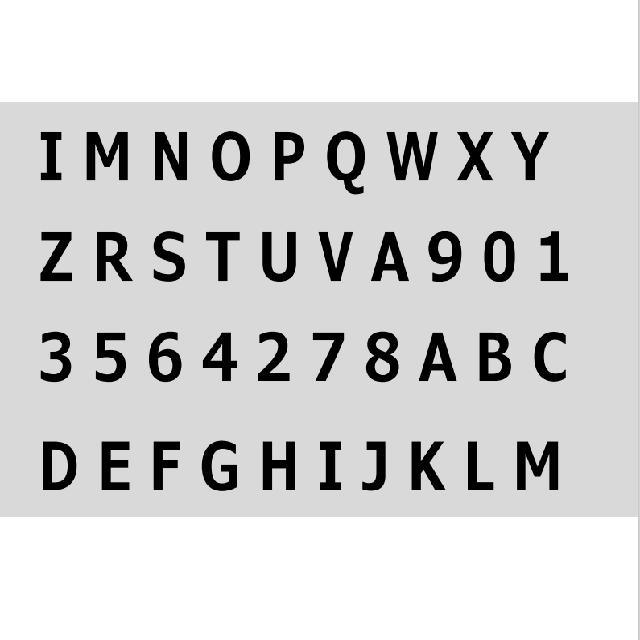0: (480, 225, 517, 286)
1: (536, 221, 573, 288)
2: (255, 323, 292, 389)
3: (38, 328, 76, 384)
4: (201, 328, 239, 384)
5: (92, 325, 128, 386)
6: (145, 328, 190, 386)
7: (312, 325, 348, 388)
8: (365, 328, 404, 384)
9: (423, 226, 462, 288)
A: (368, 220, 409, 287), (417, 329, 459, 386)
B: (476, 325, 514, 386)
C: (530, 325, 568, 387)
D: (38, 437, 80, 493)
E: (95, 436, 132, 496)
F: (147, 434, 183, 492)
G: (198, 436, 240, 496)
H: (259, 436, 300, 498)
I: (31, 122, 71, 190), (315, 434, 347, 494)
J: (357, 429, 389, 494)
K: (408, 435, 446, 498)
L: (462, 434, 496, 497)
M: (512, 436, 562, 494), (85, 129, 133, 188)
N: (146, 128, 193, 184)
O: (209, 128, 255, 184)
P: (270, 126, 304, 188)
Q: (326, 128, 367, 198)
R: (95, 229, 135, 289)
S: (152, 222, 188, 287)
T: (203, 224, 241, 285)
U: (260, 224, 300, 287)
V: (317, 224, 355, 284), (318, 227, 354, 288)
W: (388, 126, 442, 185)
X: (456, 121, 495, 183)
Y: (510, 124, 552, 184)
Z: (38, 225, 77, 285)
